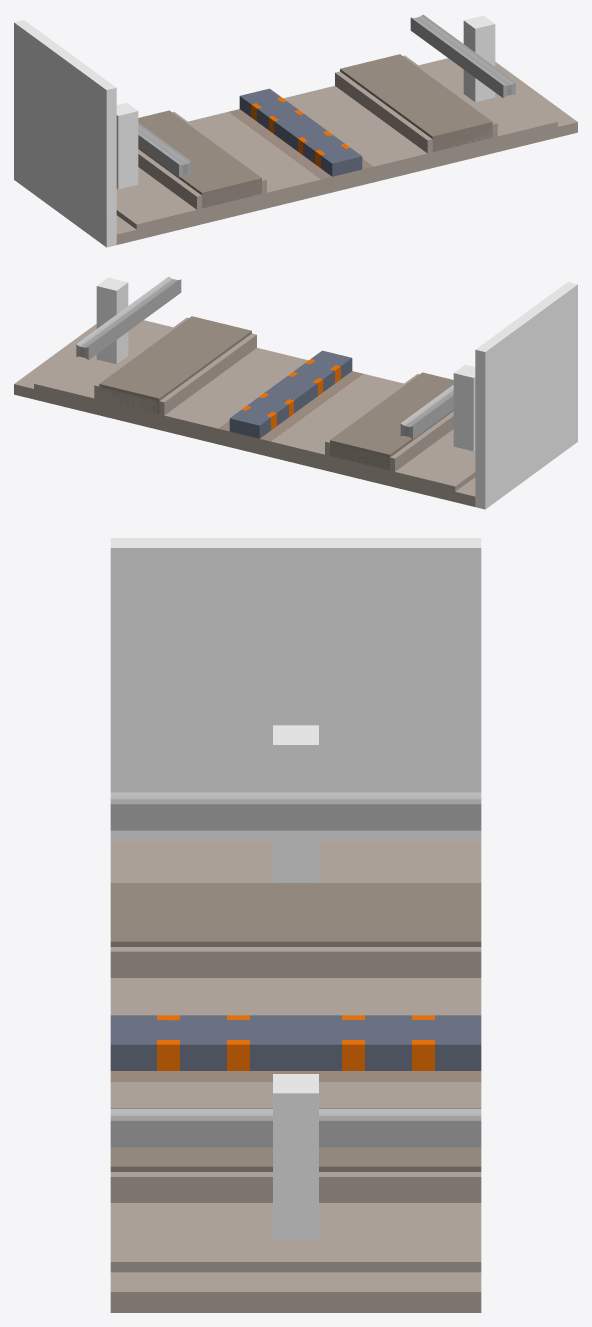
File: agtrailos.obj
3 views of the same model, one above another, from view 1: azimuth 30°, elevation 25°; view 2: azimuth 150°, elevation 25°; view 3: azimuth 270°, elevation 25° (orthographic). The views are drawn at different scales.
Visible parts, largest first — view 1: rail; view 2: rail; view 3: rail.
Part boxes in pixels (x1=…): rail: x1=14, y1=14, x2=577, y2=247; rail: x1=14, y1=276, x2=577, y2=509; rail: x1=110, y1=538, x2=481, y2=1312.
Bounding box in the file's own units: 2.94 × 0.9375 × 1.
Materials: 1 (1 with a texture image).
